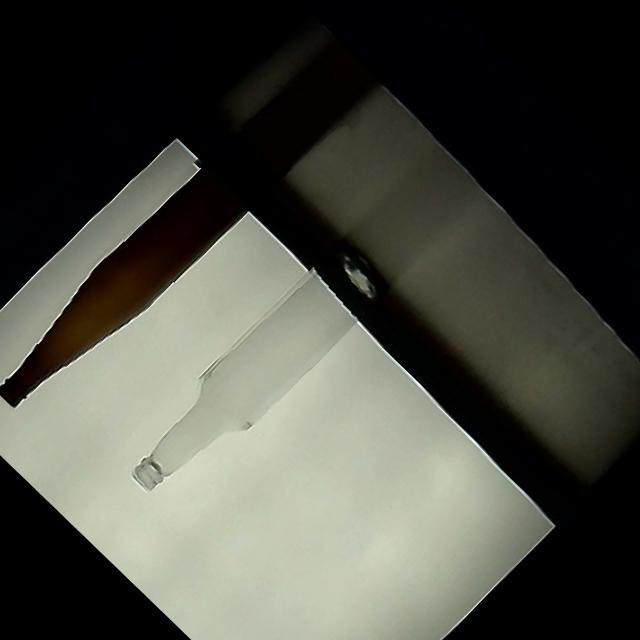Glass: (0, 114, 291, 430), (115, 232, 392, 514)
